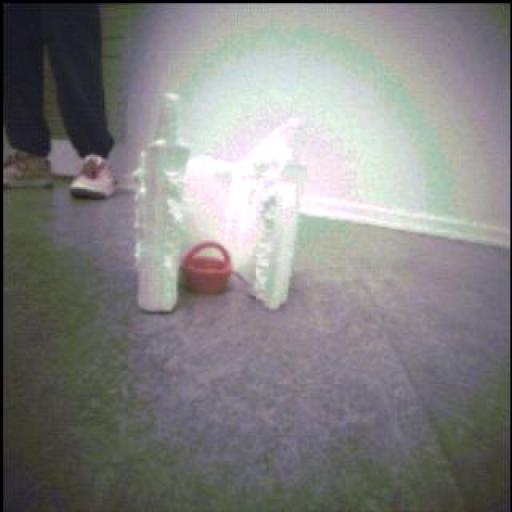Bucket: (185, 236, 236, 298)
